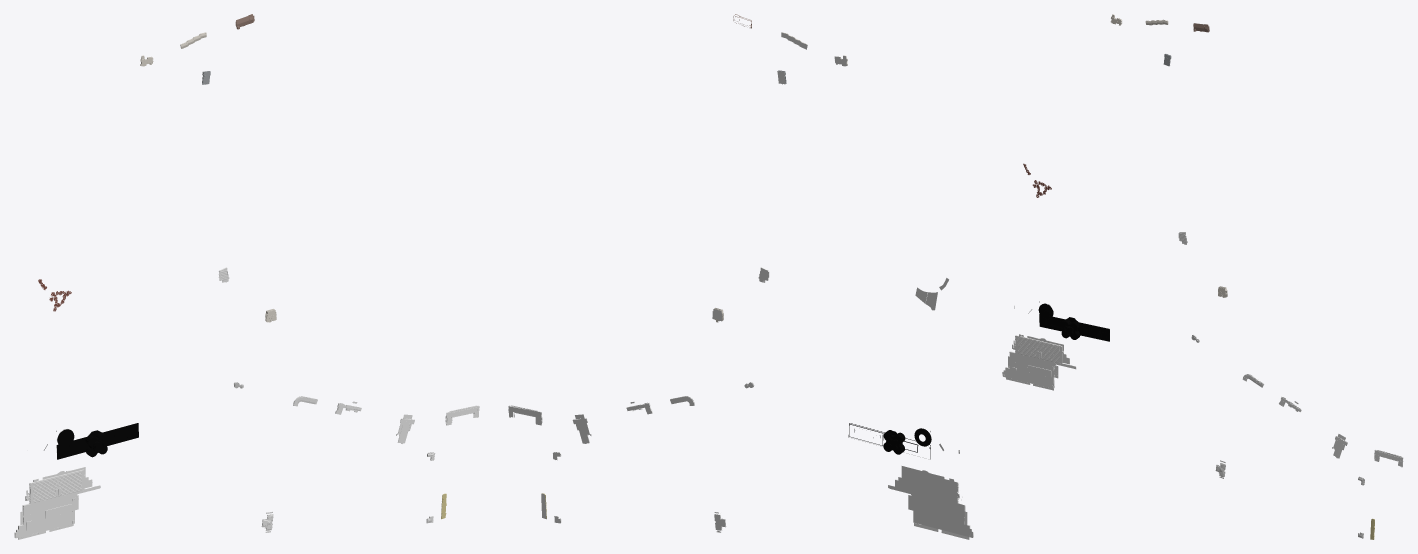
3 views of the same model, side by side, from view 1: azimuth 30°, elevation 25°; view 2: azimuth 150°, elevation 25°; view 3: azimuth 330°, elevation 25° (orthographic). The views are drawn at different scales.
Bounding box in the file's own units: 6563 × 7453 × 101.
